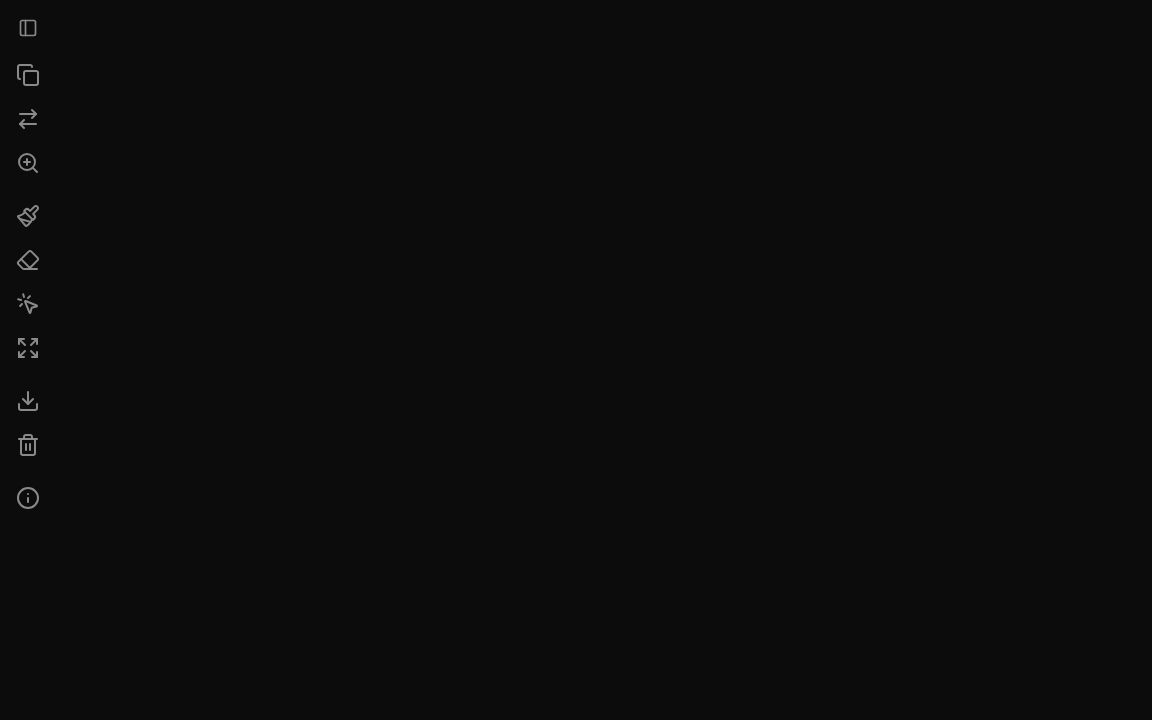
Test case: CanvasToolbar › AC-6: should show AlertDialog with correct content when Delete icon is clicked
Note: Click Delete
Click the button with test id "toolbar-delete" at (28, 445), box [0, 423, 56, 467]
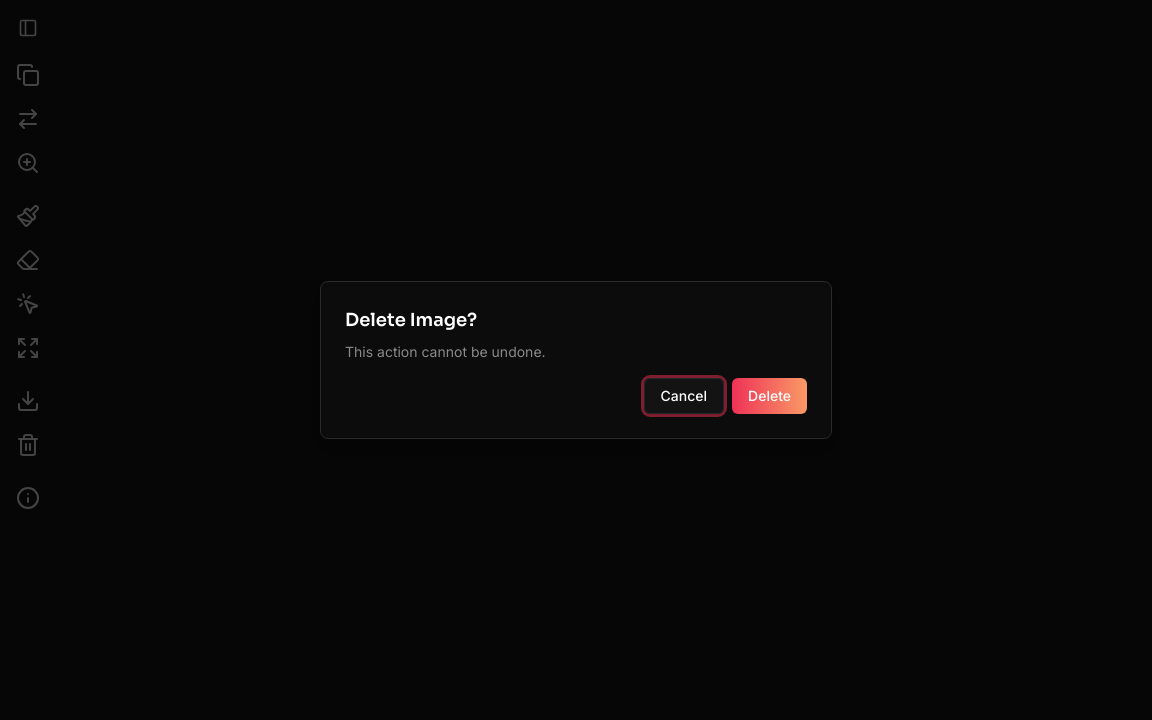
Now the heading "Delete Image?" is shown, box [345, 309, 477, 331]
Now the text "This action cannot be undone." is shown, box [345, 343, 546, 360]
Now the button "Cancel" is shown, box [644, 378, 724, 414]
